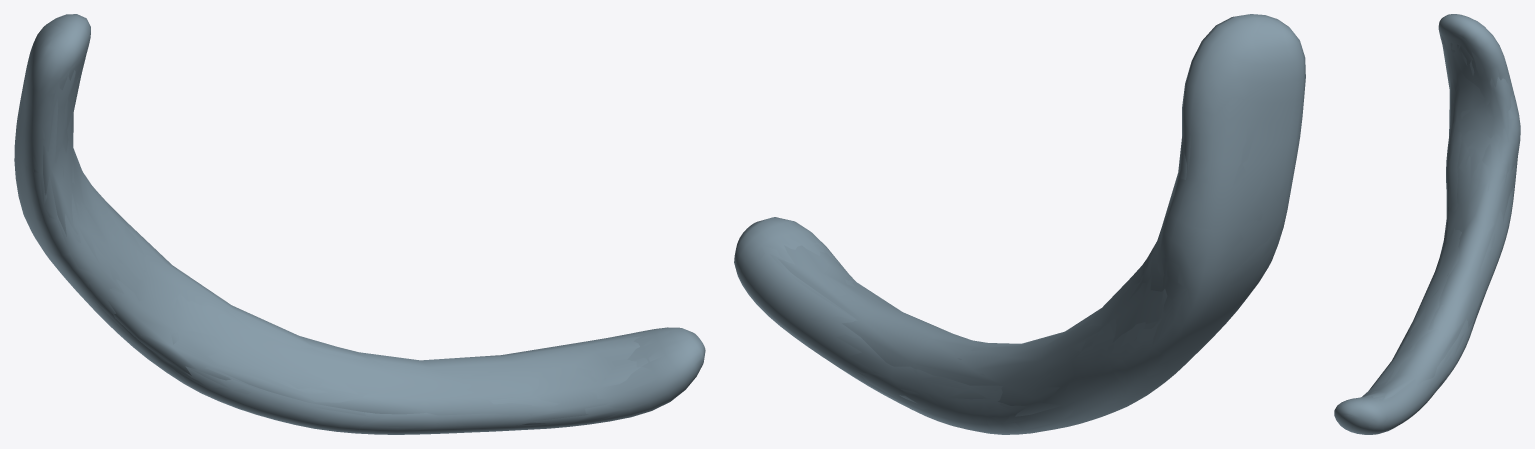
3 renders of one model, left to right at view 1: azimuth 30°, elevation 25°; view 2: azimuth 150°, elevation 25°; view 3: azimuth 270°, elevation 25°, orthographic. The views are drawn at different scales.
Visible parts, largest first — view 1: CC R04, CC R04 low, CC R04 high; view 2: CC R04 high, CC R04, CC R04 low; view 3: CC R04 low, CC R04, CC R04 high.
Part boxes in pixels (left/top/right/bottom): CC R04: left=14, top=14, right=705, bottom=432; CC R04 low: left=43, top=69, right=641, bottom=425; CC R04 high: left=14, top=14, right=705, bottom=434; CC R04 high: left=734, top=15, right=1305, bottom=434; CC R04: left=734, top=14, right=1305, bottom=432; CC R04 low: left=777, top=136, right=1186, bottom=416; CC R04 low: left=1361, top=48, right=1515, bottom=399; CC R04: left=1334, top=14, right=1520, bottom=434; CC R04 high: left=1335, top=14, right=1520, bottom=434.
Bounding box in the file's own units: 8.99 × 6.7 × 4.05.
